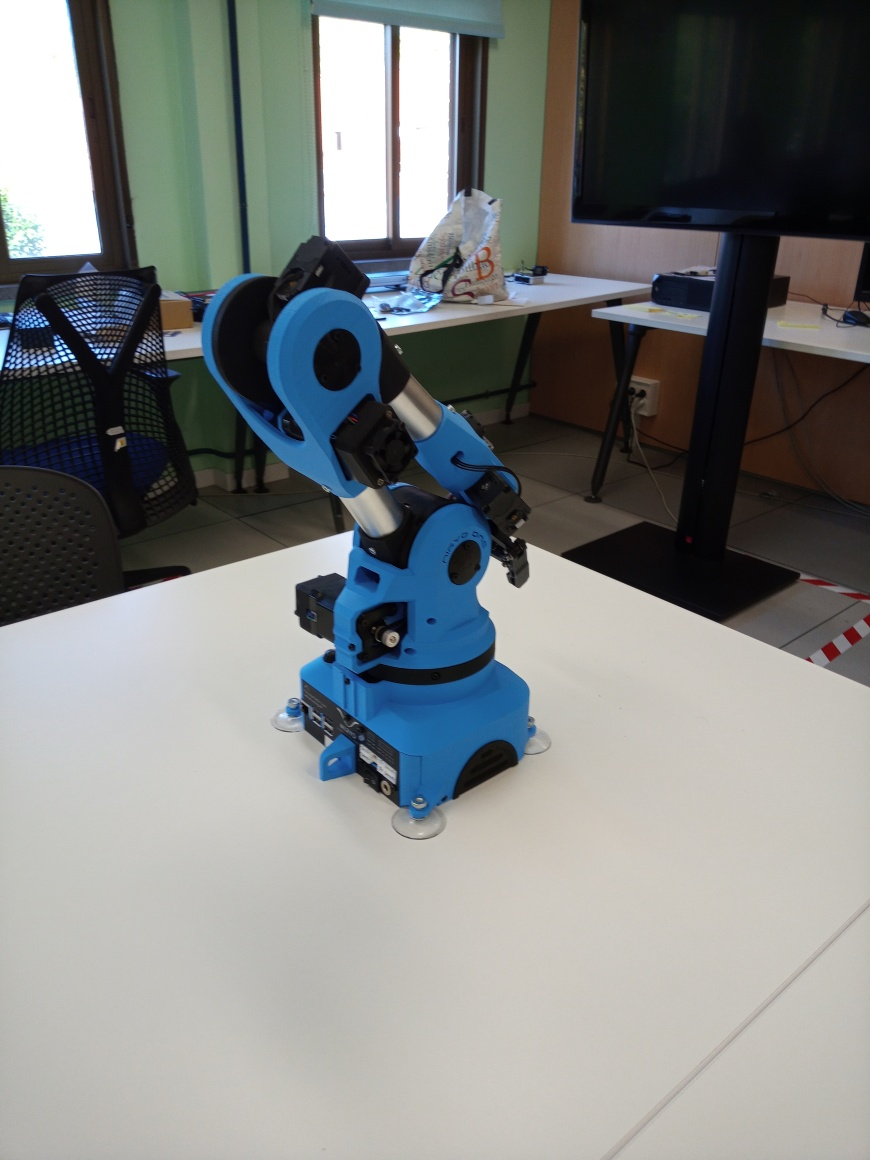robot: (196, 234, 559, 842)
